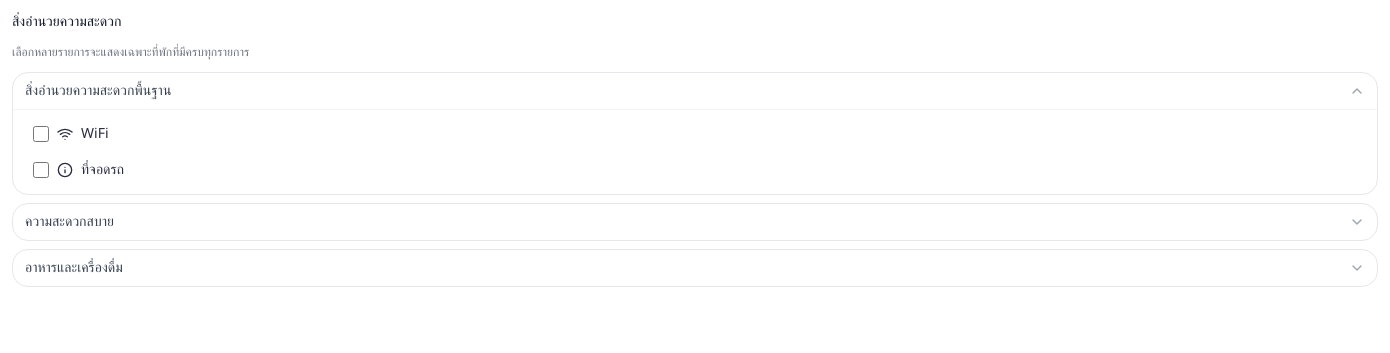
Test: AmenitiesFilter Component › categories can be expanded and collapsed
Check: the text "เครื่องปรับอากาศ" is not shown
Note: Click to expand
Click the button "ความสะดวกสบาย" at (69, 222), box left=13, top=204, right=1377, bottom=240
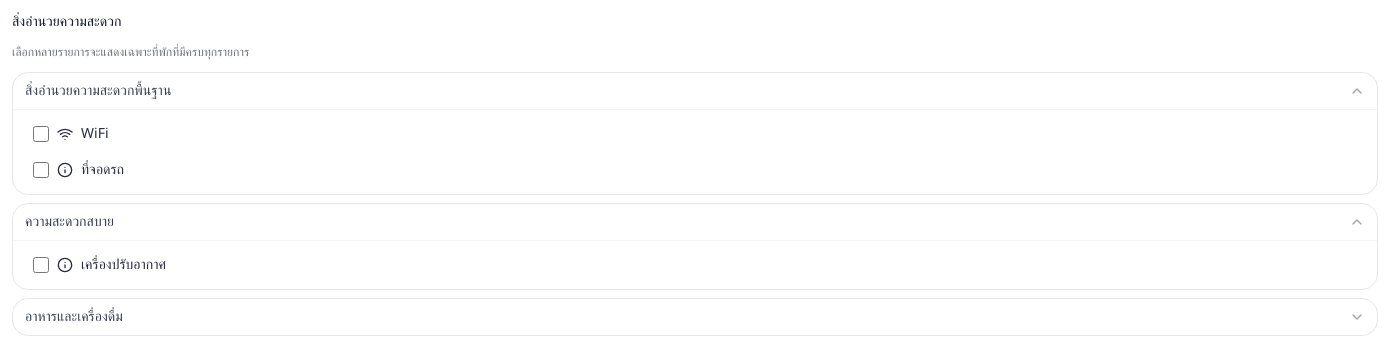
Check: the text "เครื่องปรับอากาศ" is shown, box left=81, top=255, right=166, bottom=275
Note: Click to collapse
Click the button "ความสะดวกสบาย" at (69, 222), box left=13, top=204, right=1377, bottom=240
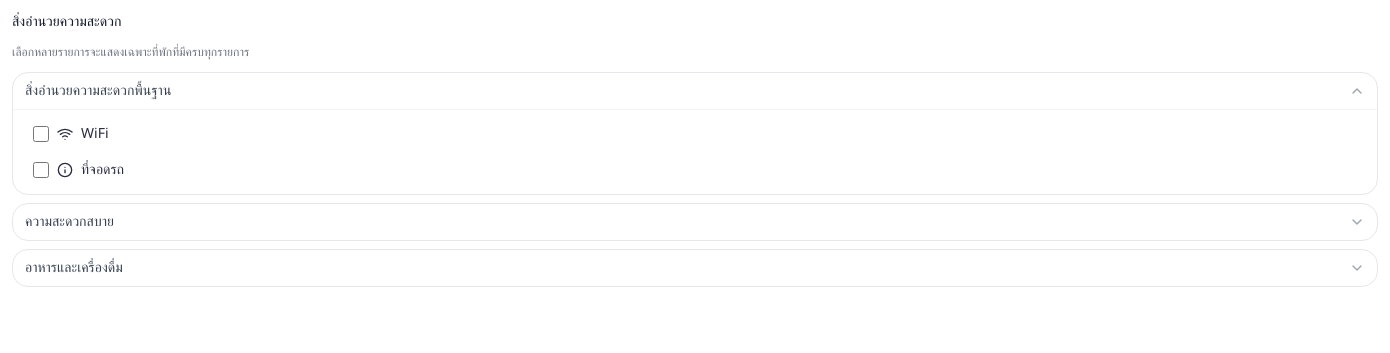
Check: the text "เครื่องปรับอากาศ" is gone
